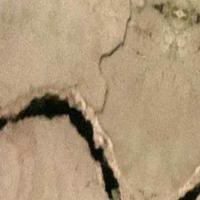crack: (0, 78, 199, 199)
